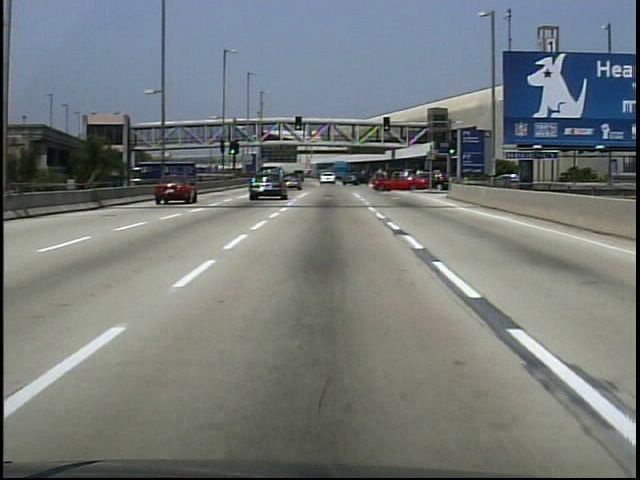person: (228, 132, 234, 145)
